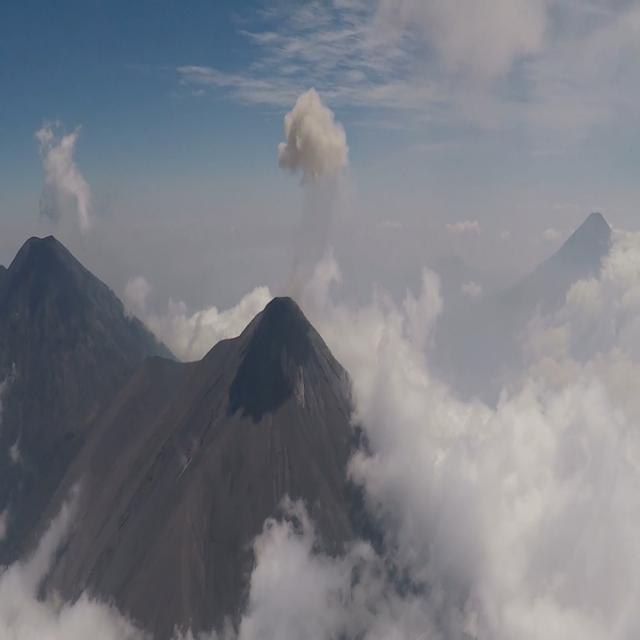Plume: (277, 83, 352, 189)
Summit: (196, 282, 350, 410)
